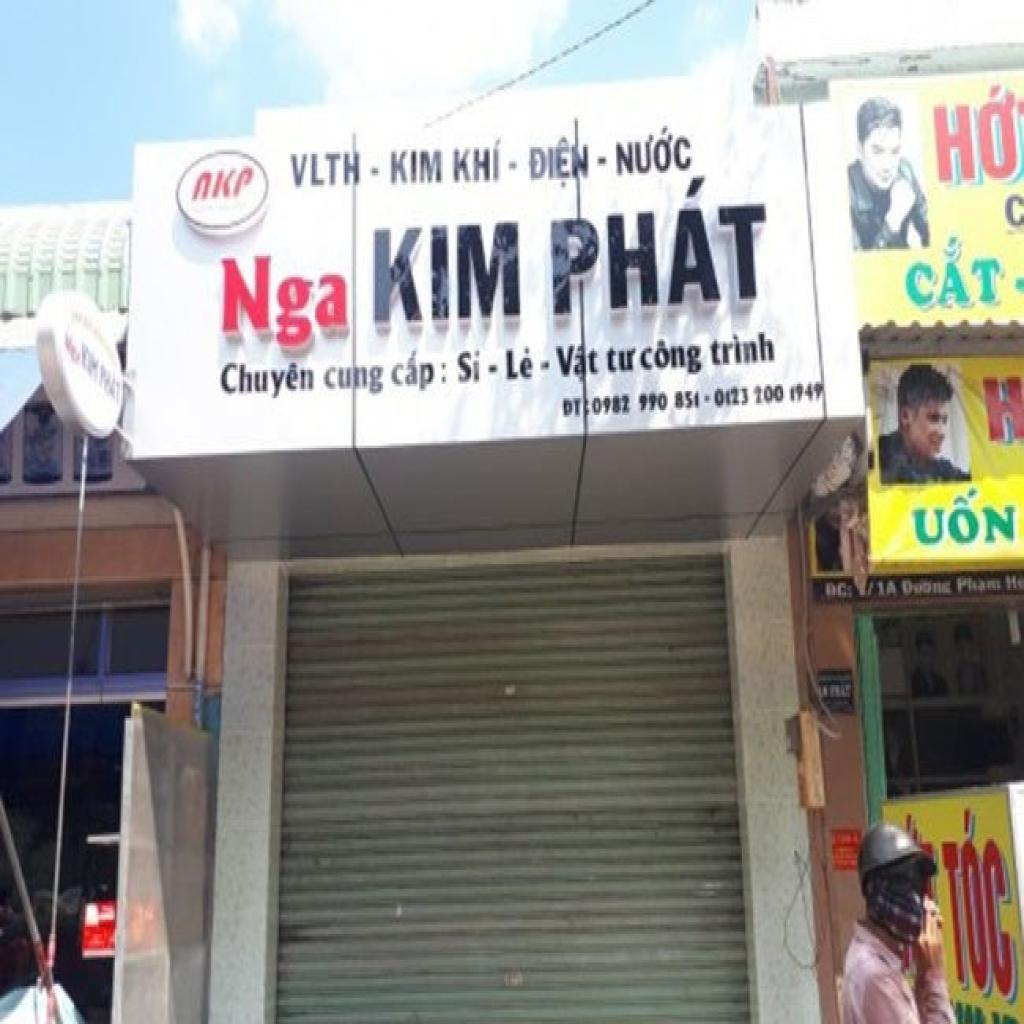text: (539, 168, 773, 325), (368, 211, 528, 332), (932, 806, 1022, 1005), (214, 244, 353, 351), (901, 227, 1007, 313), (908, 476, 1022, 552), (611, 118, 695, 182), (218, 356, 316, 403), (975, 367, 1024, 453), (589, 384, 703, 420), (525, 133, 594, 192), (712, 380, 827, 412), (285, 147, 366, 192), (188, 159, 262, 206), (636, 334, 706, 382), (706, 329, 780, 370), (450, 135, 506, 187), (386, 142, 446, 187), (320, 358, 387, 398), (552, 336, 604, 386), (389, 344, 437, 396), (900, 571, 954, 602), (503, 342, 537, 386), (953, 572, 1005, 598), (603, 339, 638, 377), (454, 342, 484, 386), (822, 578, 851, 604), (559, 393, 583, 422), (874, 576, 900, 602)
